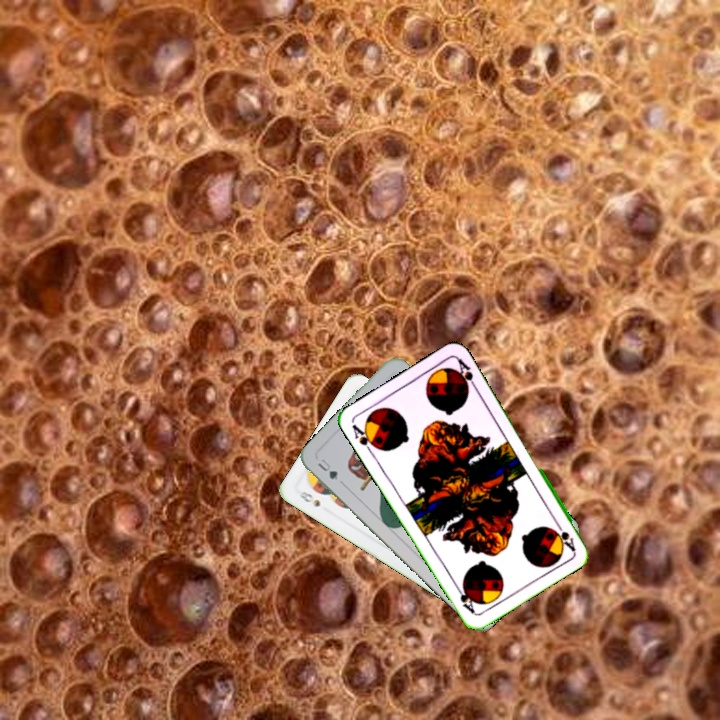GU: (313, 455, 340, 483)
S8: (293, 487, 323, 510)
SA: (348, 420, 381, 457), (550, 516, 578, 553)
